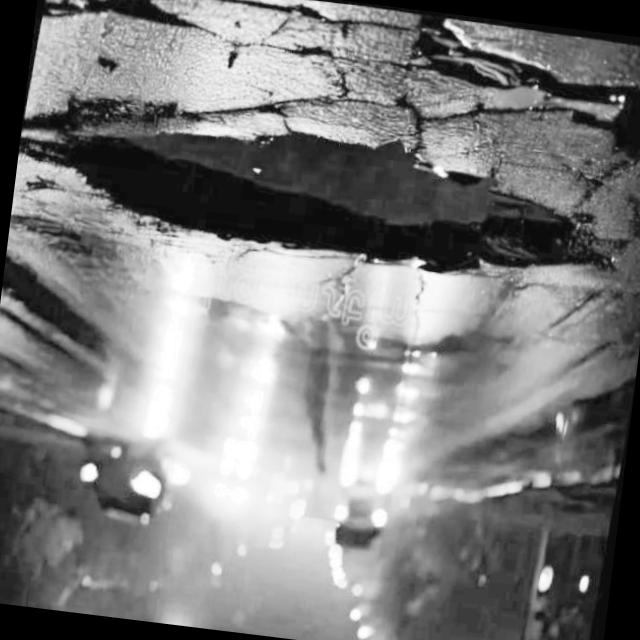Pothole: (55, 90, 622, 328), (407, 18, 640, 139), (38, 0, 191, 65)
